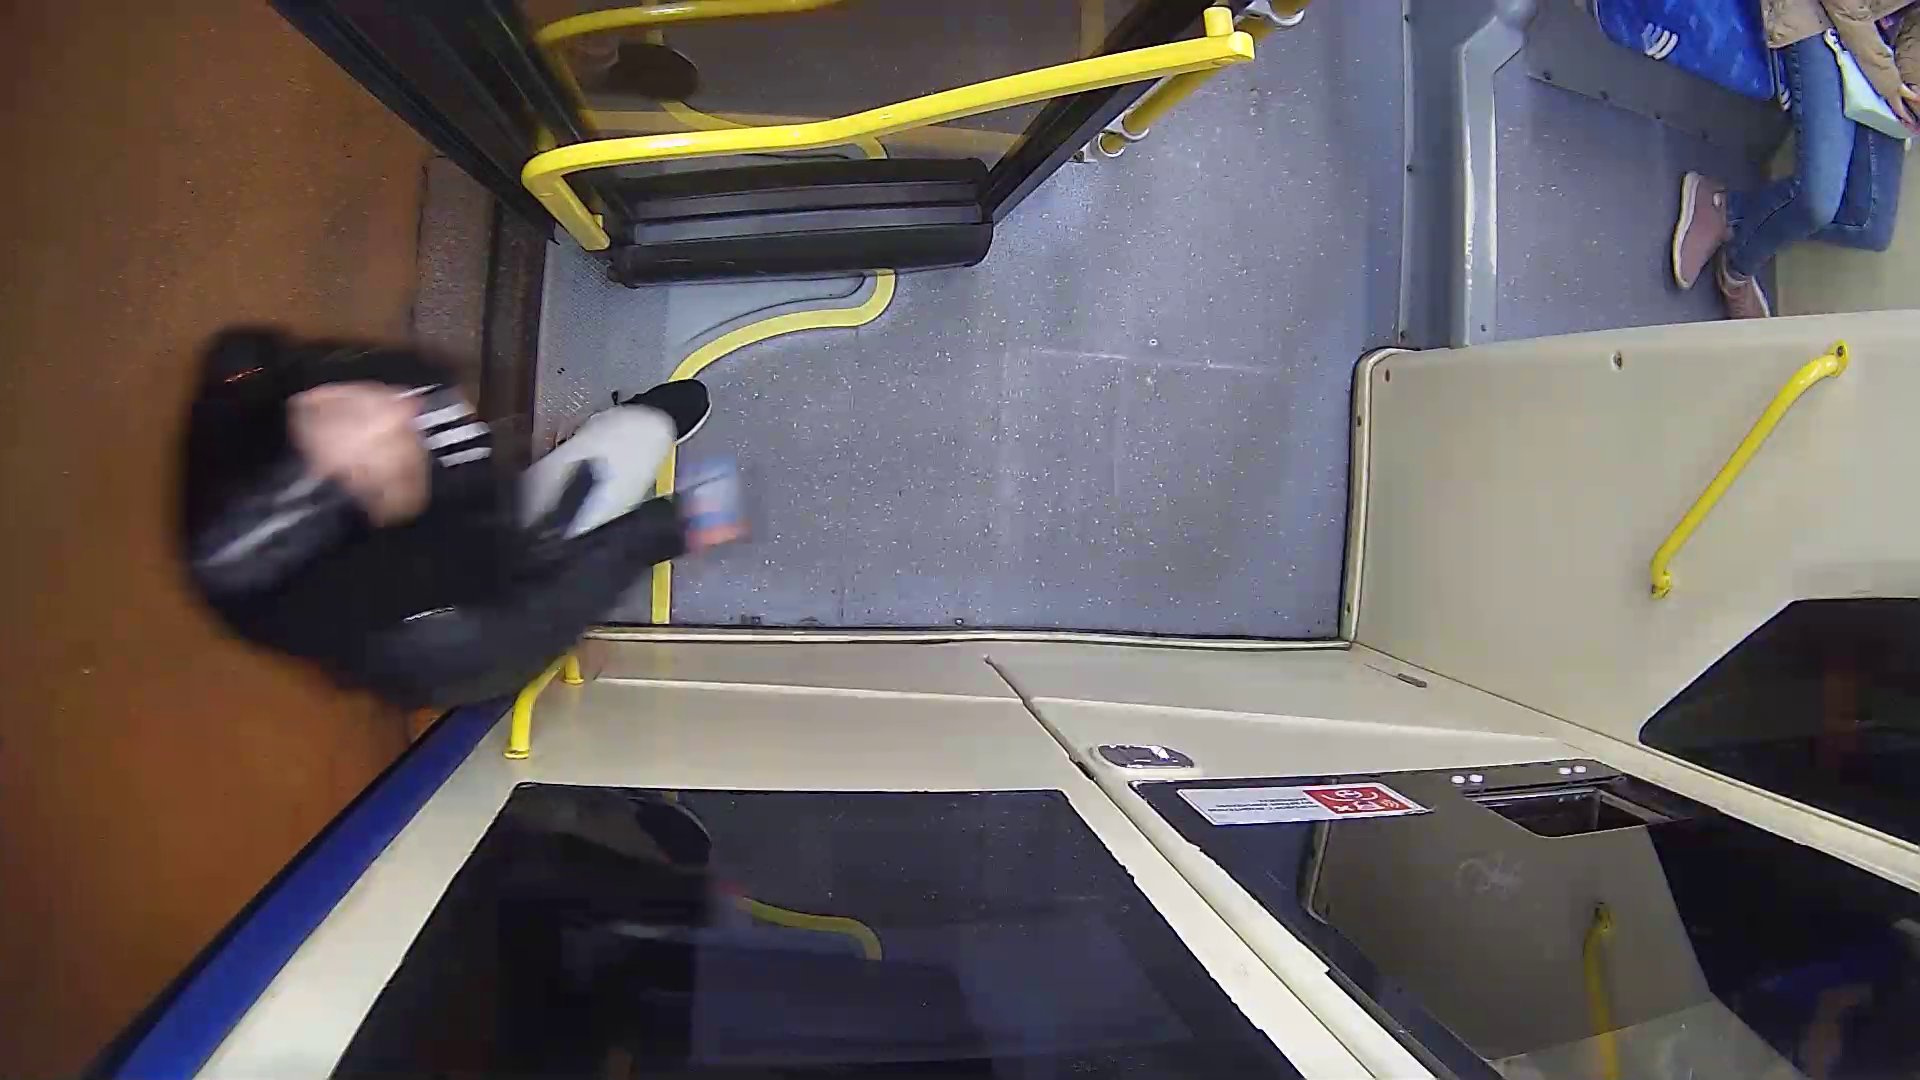person: (116, 273, 832, 709)
